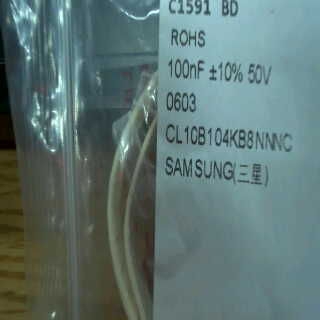100nF: (164, 57, 208, 84)
